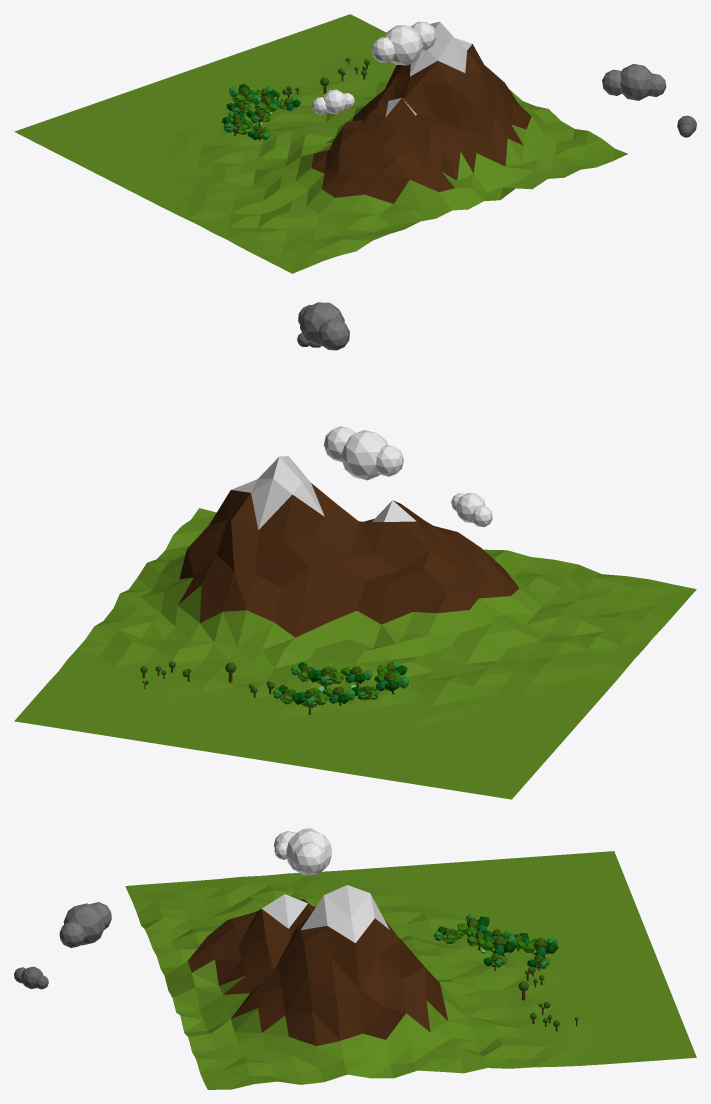
File: greenscene.glb
3 renders of one model, top to bottom at view 1: azimuth 30°, elevation 25°; view 2: azimuth 150°, elevation 25°; view 3: azimuth 270°, elevation 25°, orthographic. The views are drawn at different scales.
Parts seen in each view (by area): view 1: Plane (×5), CombinedMesh (×4); view 2: Plane (×5), CombinedMesh (×2); view 3: Plane (×6), CombinedMesh (×6).
Part boxes in pixels (x1,y1,x2,y2): Plane (×5): (14,14,666,273); CombinedMesh (×4): (221,84,300,140); Plane (×5): (14,302,696,799); CombinedMesh (×2): (279,662,407,704); Plane (×6): (14,828,696,1089); CombinedMesh (×6): (433,914,578,1026).
Bounding box in the file's own units: 129 × 40.69 × 154.
